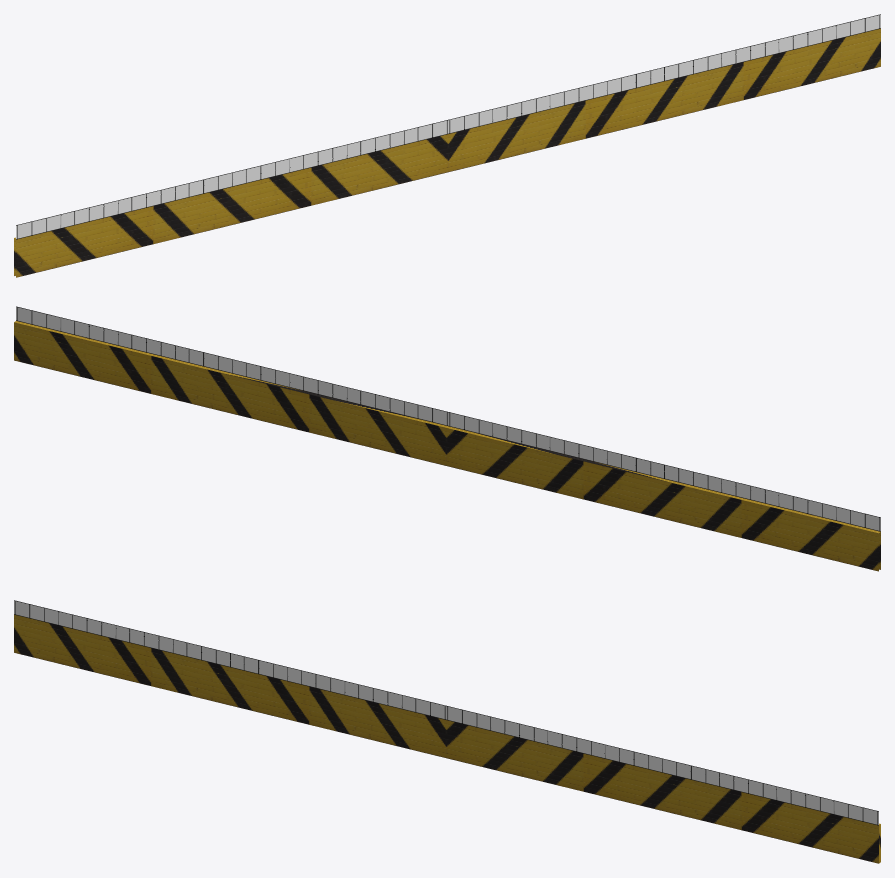
File: wall21.fbx
The picture shows the model from 3 angles, top to bottom: view 1: azimuth 30°, elevation 25°; view 2: azimuth 150°, elevation 25°; view 3: azimuth 330°, elevation 25°; orthographic projection.
Parts seen in each view (by area): view 1: pCube12; view 2: pCube12; view 3: pCube12.
Boxes of the visible parts, bbox=[...] form: pCube12: bbox=[14, 14, 880, 277]; pCube12: bbox=[14, 306, 880, 571]; pCube12: bbox=[14, 600, 880, 863].
Size of the model in its own units: 0.5315 by 0.0309 by 0.00229.
